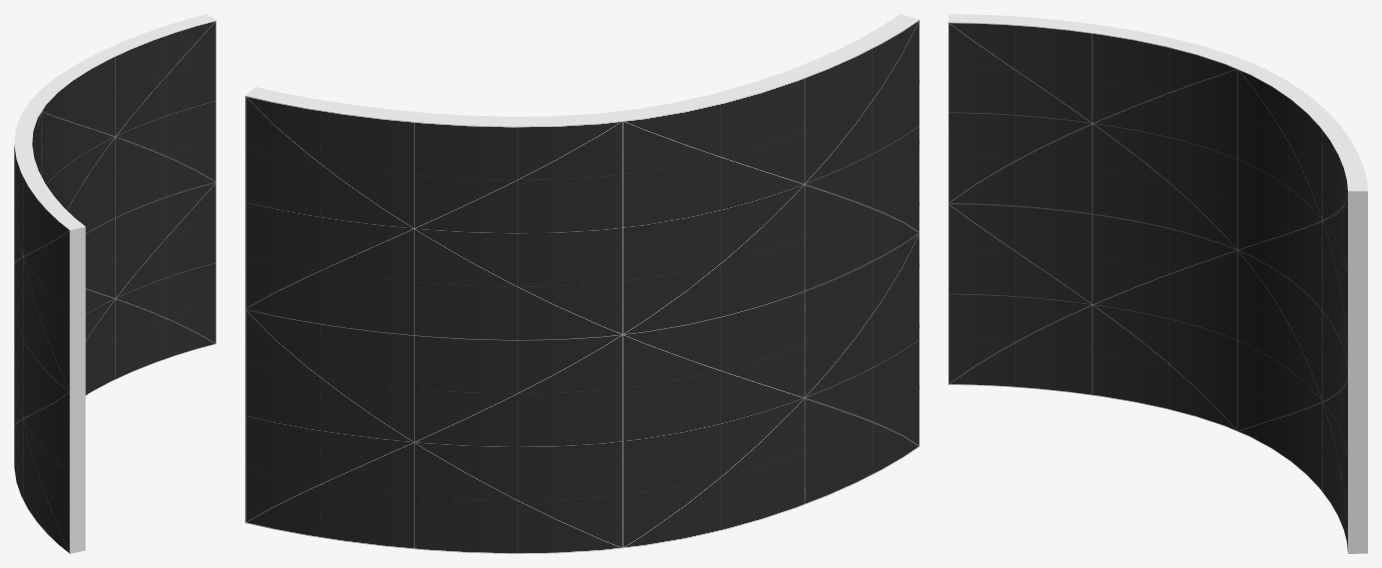
Rendered from TiltFullTightBend.glb.
The picture shows the model from 3 angles, left to right: view 1: azimuth 30°, elevation 25°; view 2: azimuth 150°, elevation 25°; view 3: azimuth 270°, elevation 25°; orthographic projection. The views are drawn at different scales.
Visible parts, largest first — view 1: SurfPatch.003; view 2: SurfPatch.003; view 3: SurfPatch.003.
Part boxes in pixels (bbox=[...]): SurfPatch.003: bbox=[14, 14, 216, 553]; SurfPatch.003: bbox=[245, 14, 919, 553]; SurfPatch.003: bbox=[948, 14, 1367, 553].
Size of the model in its own units: 10.5 by 10 by 10.5.
1 material, 1 textured.
